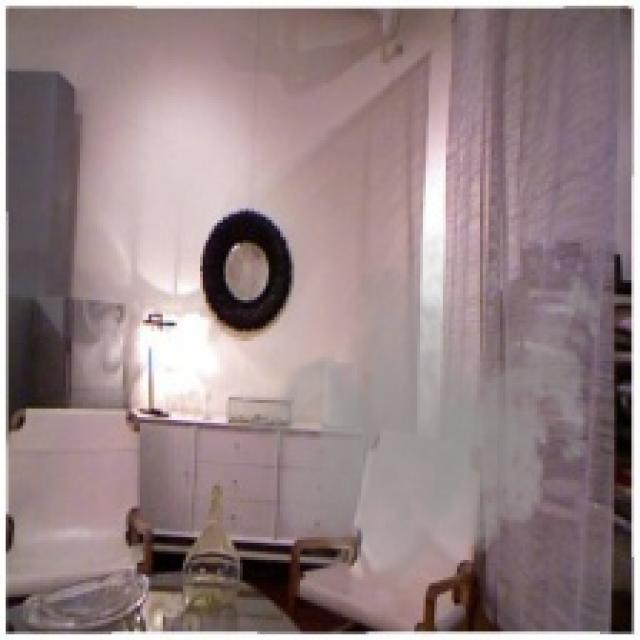Smoke: (246, 208, 612, 606)
